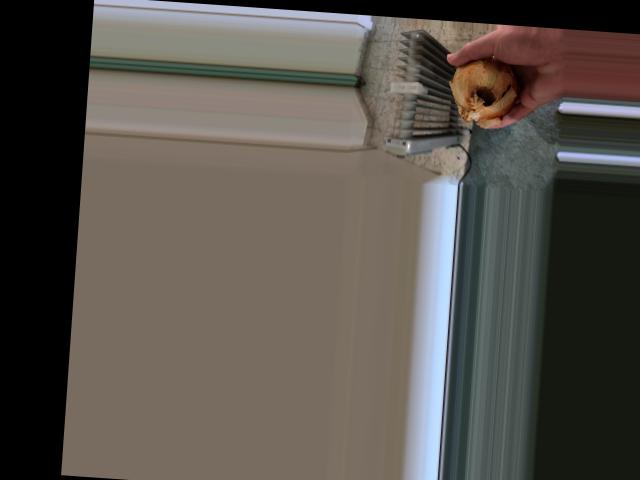onion: (447, 52, 533, 121)
